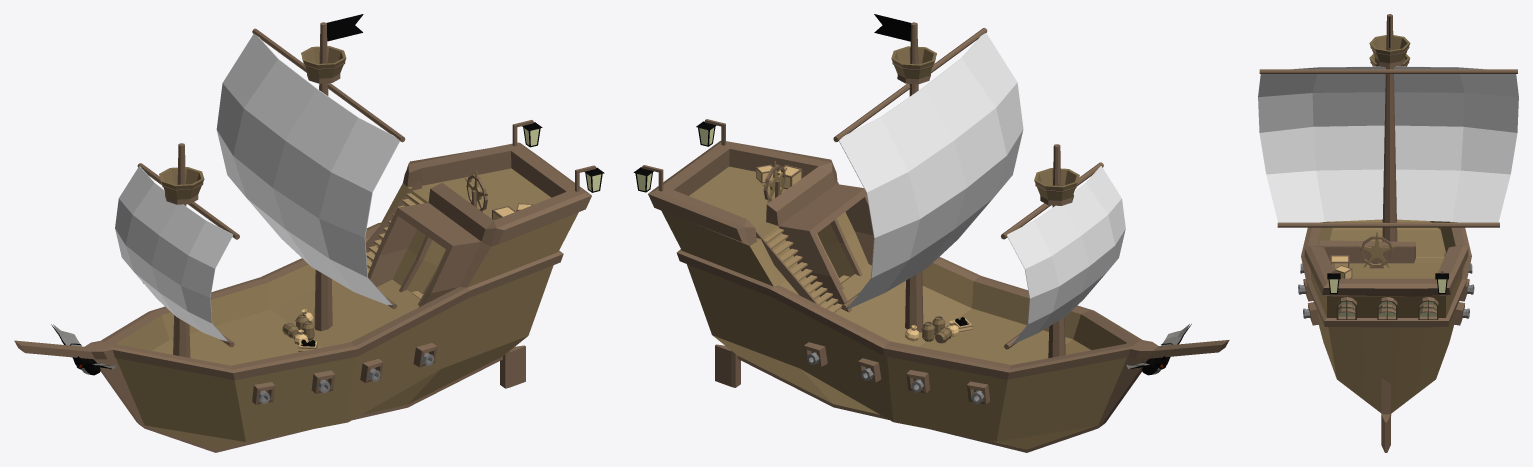
3 views of the same model, side by side, from view 1: azimuth 30°, elevation 25°; view 2: azimuth 150°, elevation 25°; view 3: azimuth 270°, elevation 25° (orthographic). The views are drawn at different scales.
Visible parts, largest first — view 1: Eslora_MaderaBarco_0, Eslora_Quilla_0, VelaMayor_Velas_0, VelaDeProa_Velas_0, MastilPrincipal_Quilla_0, object 16, NidoVistaVelaMayor_NidoVista_0, NidoVista_NidoVista_0, MastilDeProa_Quilla_0, PalaTimon_Quilla_0, Bandera_BanderaPirata_0, object 14; view 2: Eslora_MaderaBarco_0, VelaMayor_Velas_0, Eslora_Quilla_0, VelaDeProa_Velas_0, Escaleras_Escaleras_0, MastilPrincipal_Quilla_0, object 16, NidoVistaVelaMayor_NidoVista_0, NidoVista_NidoVista_0, MastilDeProa_Quilla_0, PalaTimon_Quilla_0, PlanchaEscaleras_Quilla_0 (+2 smaller); view 3: VelaMayor_Velas_0, Eslora_MaderaBarco_0, Eslora_Quilla_0, object 16, MastilPrincipal_Quilla_0, Ventana_Quilla_0, NidoVistaVelaMayor_NidoVista_0, PalaTimon_Quilla_0, Cristales_Cristales_0, Timon_MaderaBarco_0, RuedaTimon_Quilla_0.
Part boxes in pixels (left/top/right/bottom): Eslora_MaderaBarco_0: left=116, top=168, right=578, bottom=449; Eslora_Quilla_0: left=14, top=142, right=591, bottom=452; VelaMayor_Velas_0: left=216, top=34, right=399, bottom=305; VelaDeProa_Velas_0: left=115, top=166, right=232, bottom=341; MastilPrincipal_Quilla_0: left=314, top=22, right=332, bottom=331; object 16: left=252, top=28, right=405, bottom=309; NidoVistaVelaMayor_NidoVista_0: left=301, top=46, right=346, bottom=78; NidoVista_NidoVista_0: left=159, top=167, right=204, bottom=199; MastilDeProa_Quilla_0: left=173, top=143, right=190, bottom=357; PalaTimon_Quilla_0: left=500, top=345, right=525, bottom=388; Bandera_BanderaPirata_0: left=326, top=14, right=363, bottom=41; object 14: left=137, top=163, right=239, bottom=347; Eslora_MaderaBarco_0: left=661, top=166, right=1126, bottom=449; VelaMayor_Velas_0: left=839, top=33, right=1023, bottom=309; Eslora_Quilla_0: left=648, top=141, right=1229, bottom=452; VelaDeProa_Velas_0: left=1006, top=166, right=1125, bottom=343; Escaleras_Escaleras_0: left=764, top=228, right=849, bottom=312; MastilPrincipal_Quilla_0: left=905, top=22, right=923, bottom=332; object 16: left=833, top=28, right=987, bottom=310; NidoVistaVelaMayor_NidoVista_0: left=891, top=46, right=936, bottom=79; NidoVista_NidoVista_0: left=1034, top=168, right=1079, bottom=200; MastilDeProa_Quilla_0: left=1048, top=144, right=1065, bottom=358; PalaTimon_Quilla_0: left=715, top=344, right=740, bottom=387; PlanchaEscaleras_Quilla_0: left=755, top=229, right=818, bottom=304; VelaMayor_Velas_0: left=1258, top=66, right=1518, bottom=222; Eslora_MaderaBarco_0: left=1310, top=219, right=1462, bottom=413; Eslora_Quilla_0: left=1301, top=222, right=1471, bottom=327; object 16: left=1259, top=69, right=1517, bottom=227; MastilPrincipal_Quilla_0: left=1382, top=14, right=1397, bottom=241; Ventana_Quilla_0: left=1336, top=297, right=1438, bottom=319; NidoVistaVelaMayor_NidoVista_0: left=1369, top=35, right=1410, bottom=63; PalaTimon_Quilla_0: left=1381, top=378, right=1390, bottom=452; Cristales_Cristales_0: left=1338, top=301, right=1436, bottom=316; Timon_MaderaBarco_0: left=1356, top=231, right=1397, bottom=267; RuedaTimon_Quilla_0: left=1360, top=236, right=1393, bottom=266.
Size of the model in its own units: 246 by 172 by 115.
